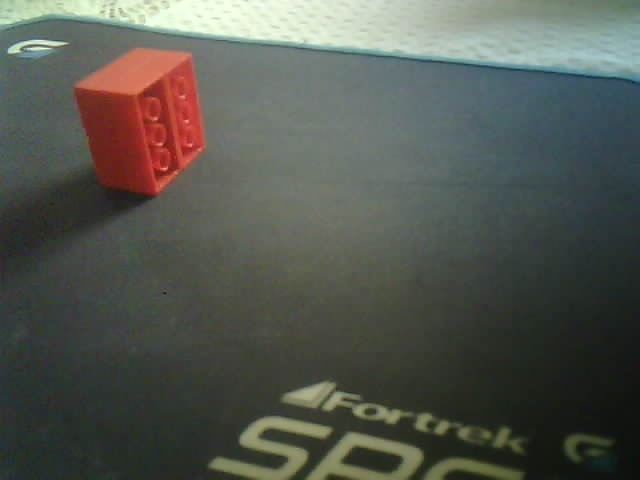lego: (73, 46, 207, 198)
